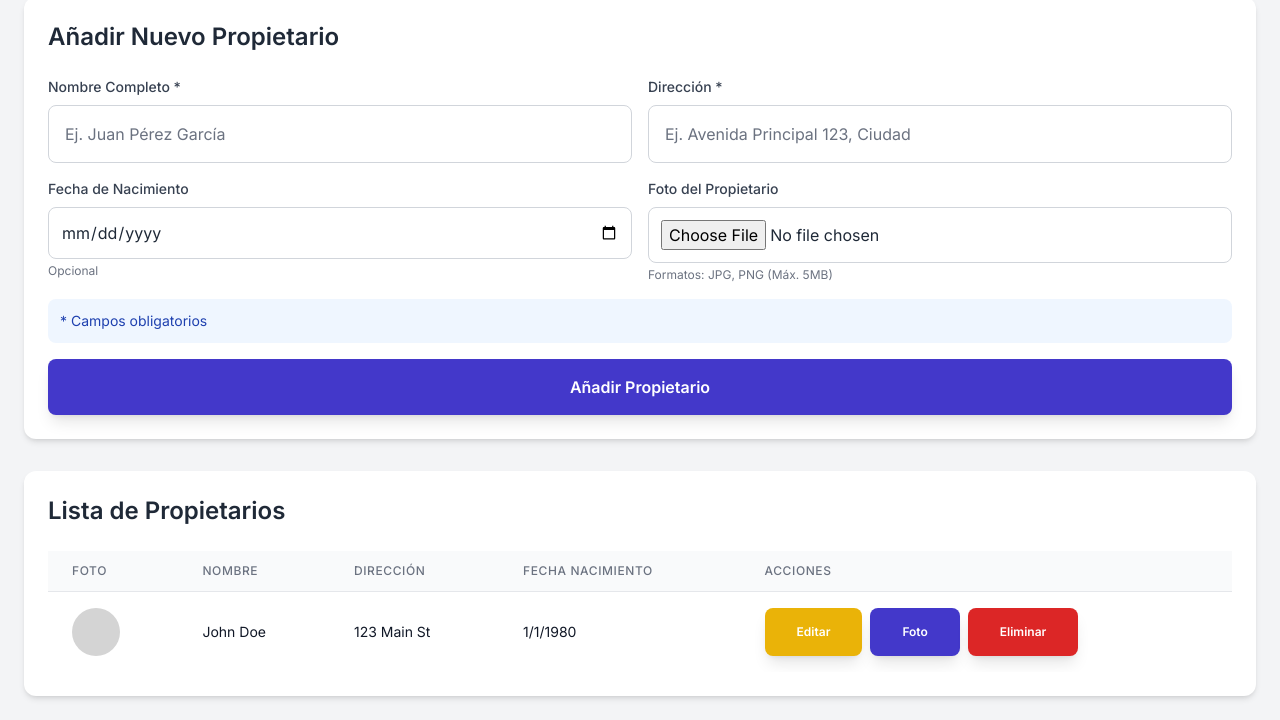
Test: OwnerManagement Component › should cancel edit when cancel button is clicked
(page scrolled)
Expected: the text "John Doe" is shown, [178, 592, 330, 672]
# Abrir modal de edición
Click the button "Editar": click(813, 632) [764, 608, 862, 656]
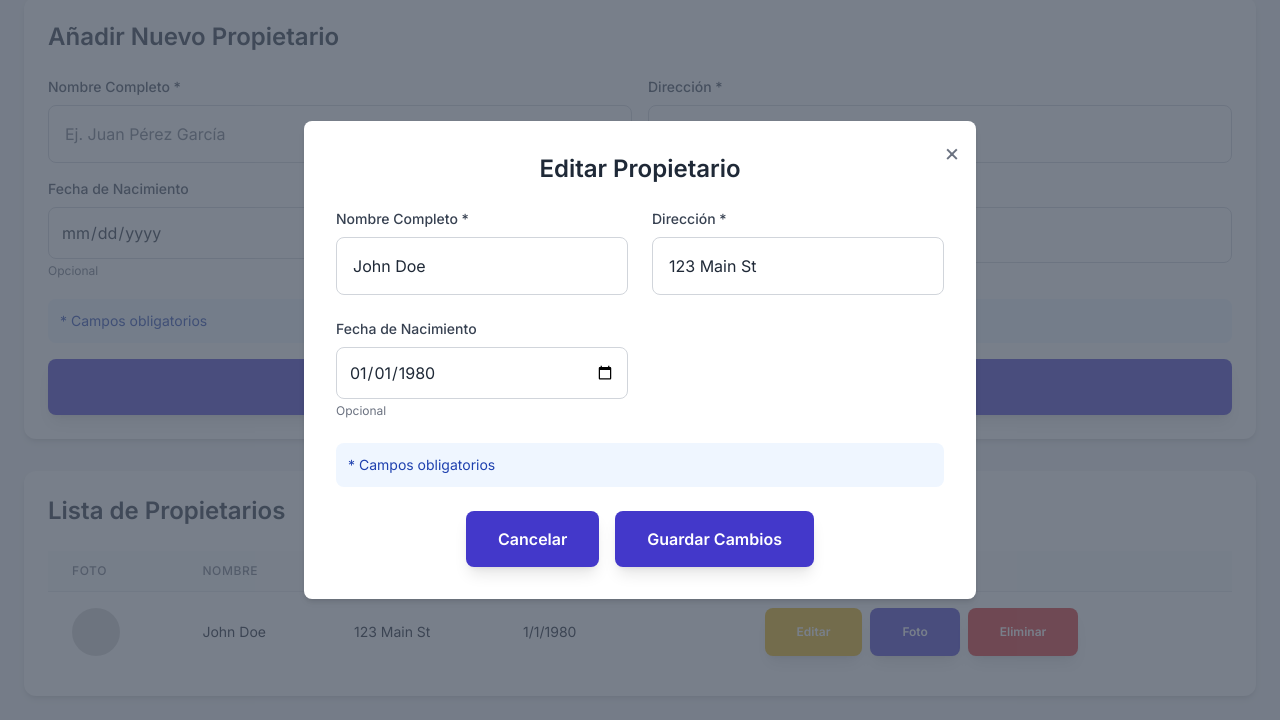
Now the heading "Editar Propietario" is shown, box [539, 154, 741, 183]
# Buscar y hacer clic en el botón de cancelar
Click the button "Cancelar": click(533, 539) [466, 511, 599, 567]
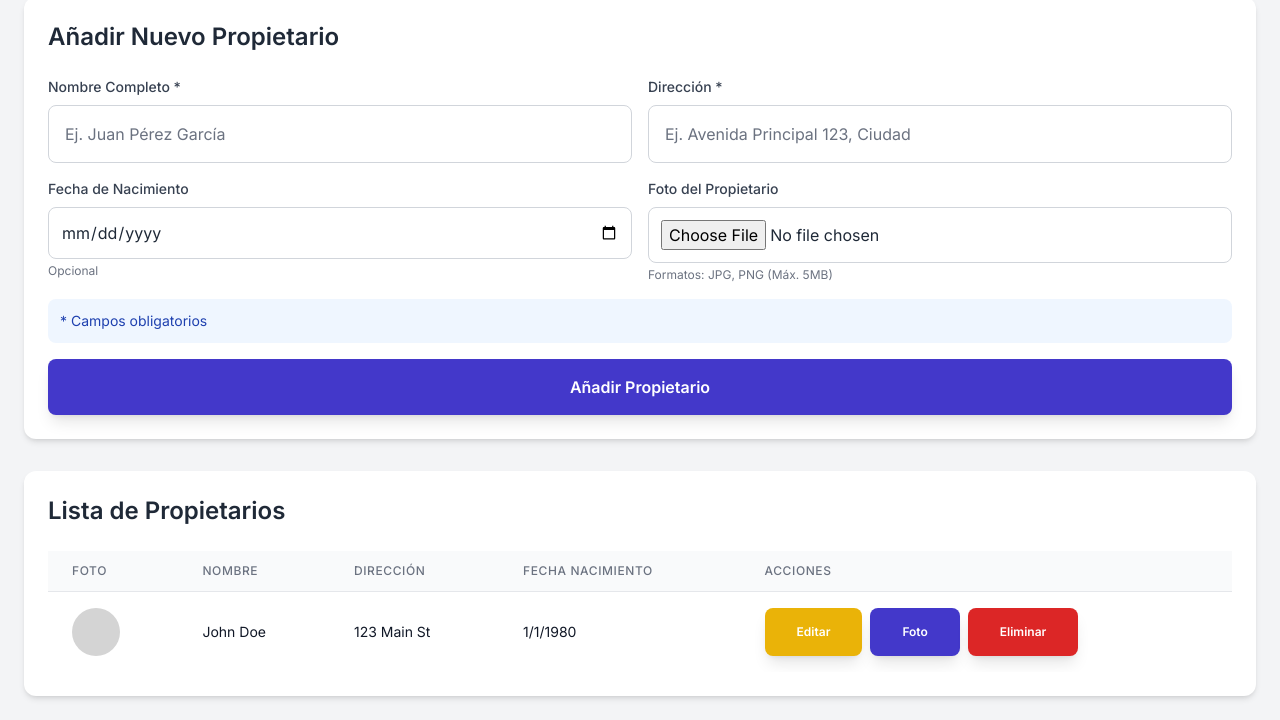
Now the heading "Editar Propietario" is gone
